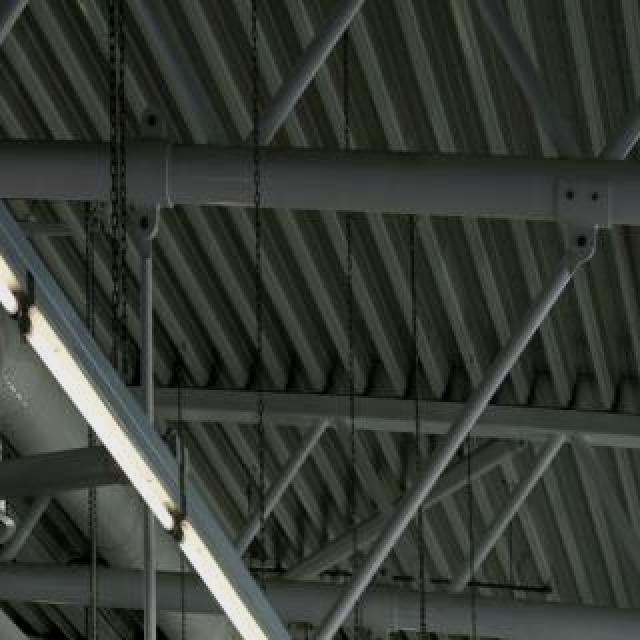fluorescent tube: (0, 300, 192, 548), (162, 510, 298, 640), (0, 0, 44, 342)
